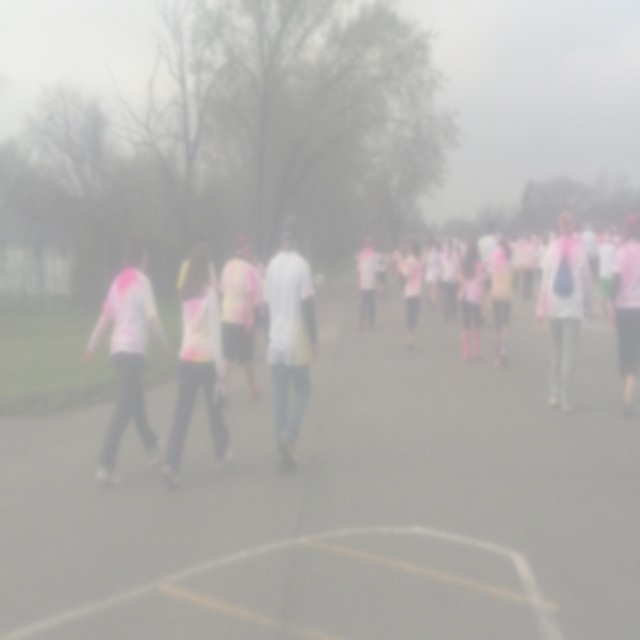pessoa: (81, 230, 171, 488), (160, 239, 233, 492), (262, 212, 320, 476), (534, 209, 597, 417), (213, 234, 262, 404), (606, 210, 640, 418), (480, 238, 514, 368), (457, 239, 485, 366), (176, 230, 221, 303), (476, 218, 499, 328), (402, 238, 424, 352), (356, 234, 379, 330), (568, 221, 590, 319), (438, 238, 461, 322), (598, 232, 618, 319), (249, 277, 266, 359), (534, 234, 552, 302), (518, 234, 536, 302), (580, 222, 597, 284), (429, 241, 444, 311), (394, 242, 410, 303), (376, 244, 389, 303), (425, 235, 436, 303), (511, 237, 522, 304), (610, 224, 626, 249), (517, 230, 526, 270), (459, 233, 470, 264), (422, 240, 429, 283), (256, 262, 266, 289), (444, 232, 456, 253), (391, 246, 398, 278), (541, 230, 559, 242), (595, 230, 605, 246), (457, 236, 463, 256), (532, 232, 538, 250), (506, 236, 514, 247), (493, 233, 503, 241), (473, 234, 480, 244), (440, 240, 446, 250)
